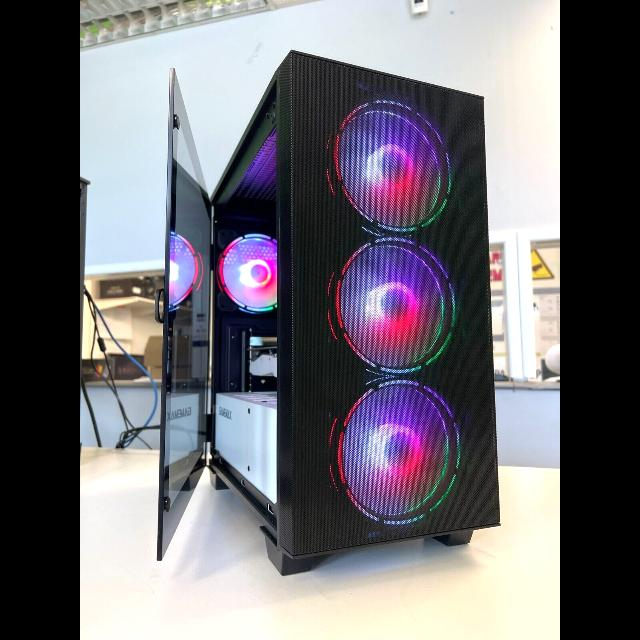Desktop-PC: (188, 47, 508, 570)
